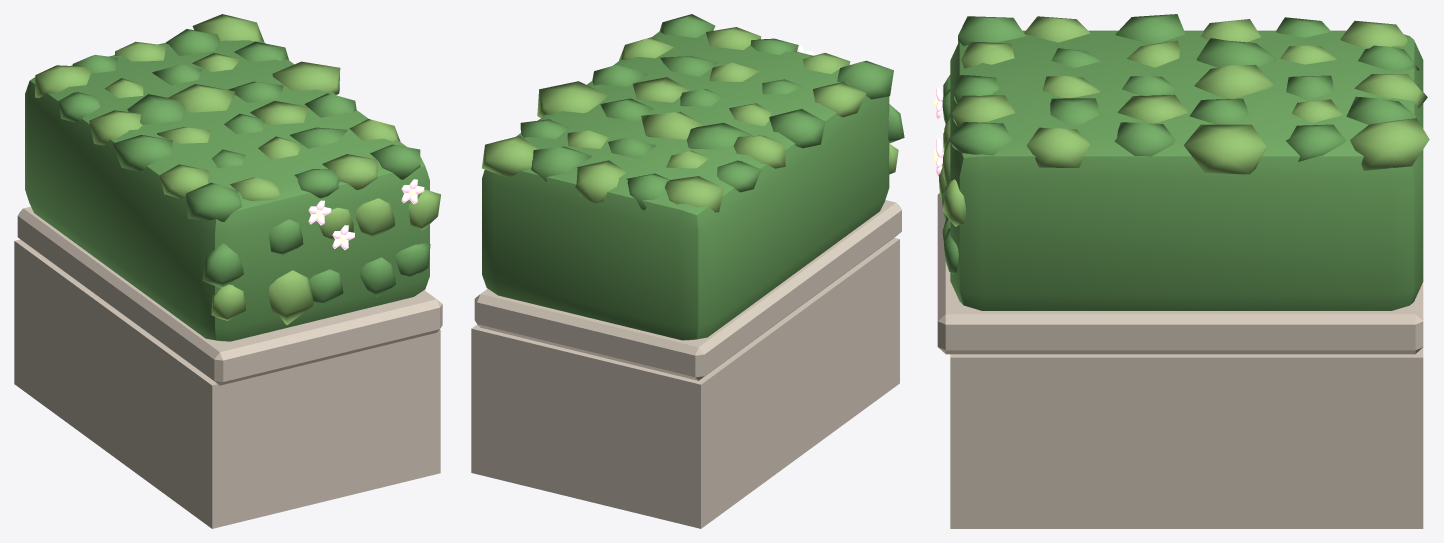
The model's file is hedge_block.glb.
3 renders of one model, left to right at view 1: azimuth 30°, elevation 25°; view 2: azimuth 150°, elevation 25°; view 3: azimuth 270°, elevation 25°, orthographic. The views are drawn at different scales.
Parts seen in each view (by area): view 1: hedge_block; view 2: hedge_block; view 3: hedge_block.
Part boxes in pixels (left/top/right/bottom): hedge_block: left=14, top=14, right=442, bottom=528; hedge_block: left=471, top=14, right=904, bottom=528; hedge_block: left=933, top=14, right=1429, bottom=528.
Bounding box in the file's own units: 1.1 × 1.38 × 1.57.
